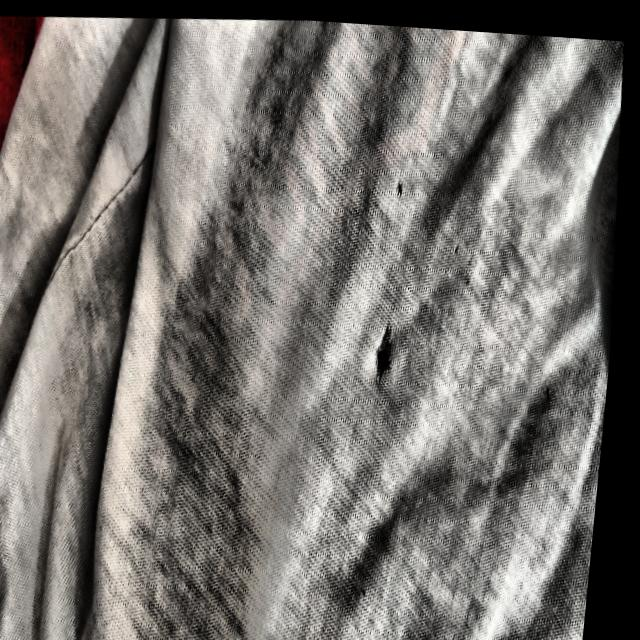Hole: (372, 307, 408, 388), (393, 169, 411, 201), (548, 373, 563, 401)
